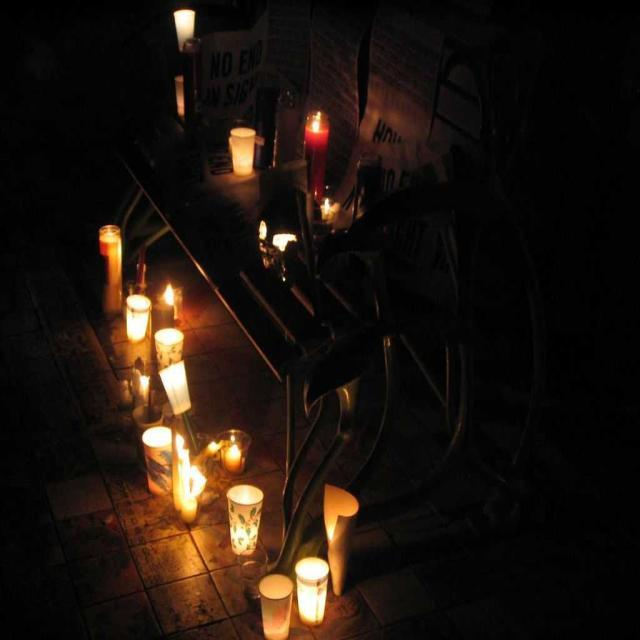Fire: (166, 431, 212, 514), (156, 275, 186, 321), (306, 114, 336, 152), (224, 431, 248, 468)
